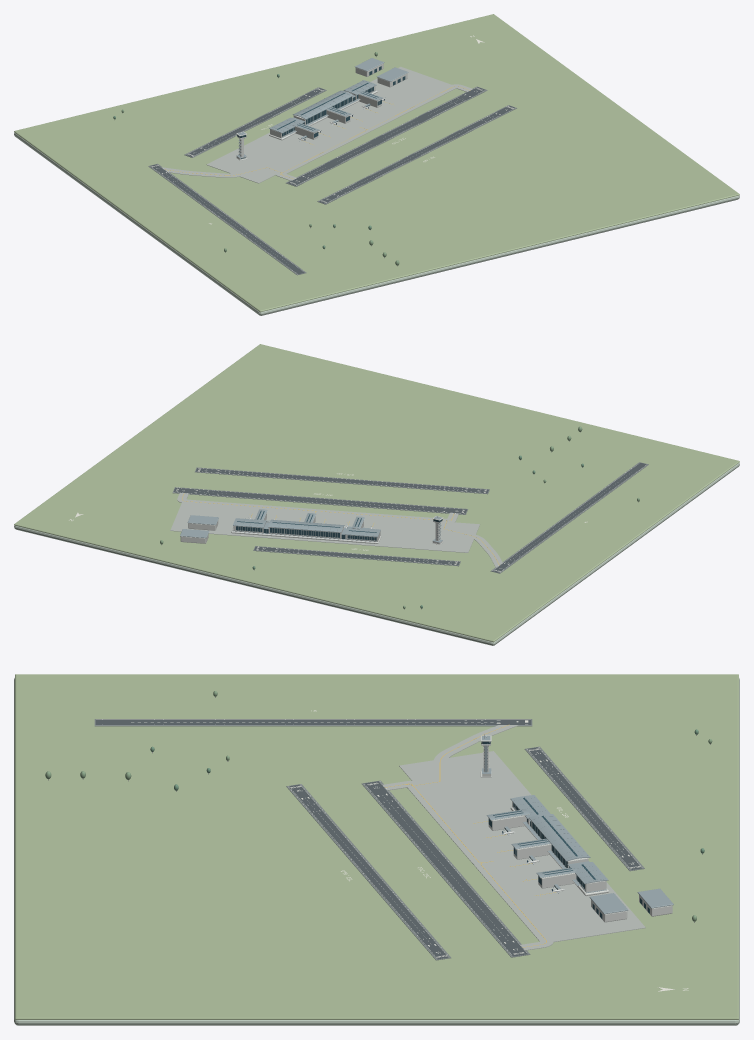
The model's file is airport-environment.glb.
3 views of the same model, one above another, from view 1: azimuth 30°, elevation 25°; view 2: azimuth 150°, elevation 25°; view 3: azimuth 270°, elevation 25° (orthographic). The views are drawn at different scales.
Parts seen in each view (by area): view 1: Landscape.Landscape, Surface.TaxiApron.Apron, Landscape.Diorama, Runway.center.Runway, Runway.south.Runway, Runway.west.Runway, Runway.north.Runway, Runway.south.Shoulder, Runway.center.Shoulder, Terminal hall volume 2.Roof, Runway.west.Shoulder; view 2: Landscape.Landscape, Surface.TaxiApron.Apron, Landscape.Diorama, Runway.center.Runway, Runway.south.Runway, Runway.west.Runway, Runway.north.Runway, Runway.south.Shoulder, Runway.center.Shoulder, Terminal hall volume 2.Roof, Runway.west.Shoulder, Runway.north.Shoulder; view 3: Landscape.Landscape, Surface.TaxiApron.Apron, Landscape.Diorama, Runway.center.Runway, Runway.south.Runway, Runway.west.Runway, Runway.north.Runway, Runway.west.Shoulder, Terminal hall volume 2.Roof, Runway.south.Shoulder, Runway.center.Shoulder, Runway.north.Shoulder (+1 smaller).
Boxes of the visible parts, bbox=[...] form: Landscape.Landscape: bbox=[14, 14, 739, 312]; Surface.TaxiApron.Apron: bbox=[161, 66, 472, 183]; Landscape.Diorama: bbox=[14, 132, 739, 315]; Runway.center.Runway: bbox=[287, 87, 485, 185]; Runway.south.Runway: bbox=[319, 105, 514, 203]; Runway.west.Runway: bbox=[150, 164, 304, 274]; Runway.north.Runway: bbox=[186, 88, 324, 156]; Runway.south.Shoulder: bbox=[317, 105, 516, 204]; Runway.center.Shoulder: bbox=[286, 86, 487, 186]; Terminal hall volume 2.Roof: bbox=[293, 90, 353, 119]; Runway.west.Shoulder: bbox=[148, 163, 306, 275]; Landscape.Landscape: bbox=[14, 344, 739, 642]; Surface.TaxiApron.Apron: bbox=[170, 492, 502, 567]; Landscape.Diorama: bbox=[14, 462, 739, 645]; Runway.center.Runway: bbox=[173, 487, 466, 513]; Runway.south.Runway: bbox=[195, 468, 488, 493]; Runway.west.Runway: bbox=[492, 462, 646, 572]; Runway.north.Runway: bbox=[254, 546, 459, 565]; Runway.south.Shoulder: bbox=[195, 467, 489, 494]; Runway.center.Shoulder: bbox=[172, 487, 467, 514]; Terminal hall volume 2.Roof: bbox=[268, 519, 344, 538]; Runway.west.Shoulder: bbox=[490, 462, 648, 573]; Runway.north.Shoulder: bbox=[253, 546, 460, 566]; Landscape.Landscape: bbox=[15, 674, 738, 1019]; Surface.TaxiApron.Apron: bbox=[383, 725, 645, 950]; Landscape.Diorama: bbox=[14, 678, 739, 1025]; Runway.center.Runway: bbox=[364, 781, 527, 956]; Runway.south.Runway: bbox=[289, 784, 448, 959]; Runway.west.Runway: bbox=[95, 720, 531, 724]; Runway.north.Runway: bbox=[527, 747, 642, 869]; Runway.west.Shoulder: bbox=[94, 719, 532, 726]; Terminal hall volume 2.Roof: bbox=[529, 813, 590, 867]; Runway.south.Shoulder: bbox=[286, 784, 450, 960]; Runway.center.Shoulder: bbox=[361, 780, 530, 957]; Runway.north.Shoulder: bbox=[524, 746, 644, 871].
Size of the model in its own units: 900 by 61.05 by 800.
